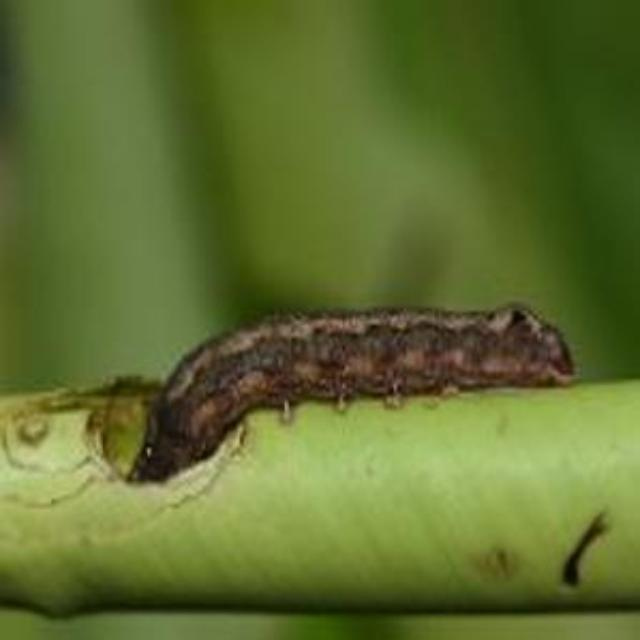Tobacco cutworm: (77, 222, 618, 536)
